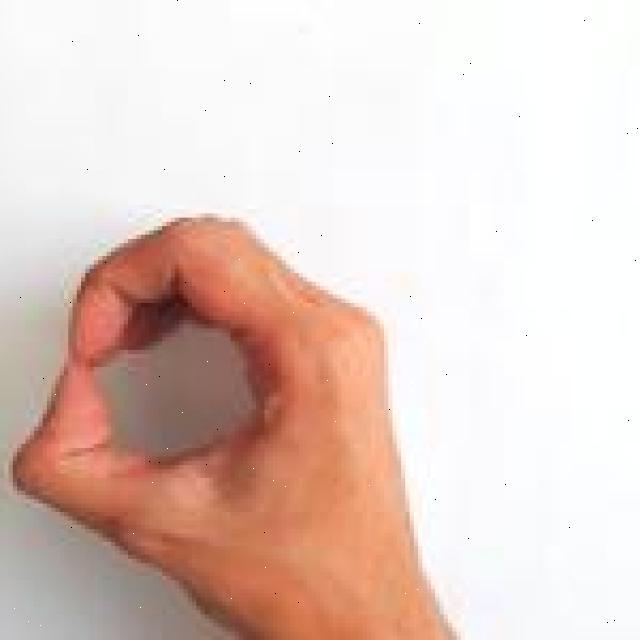O: (8, 205, 464, 640)
